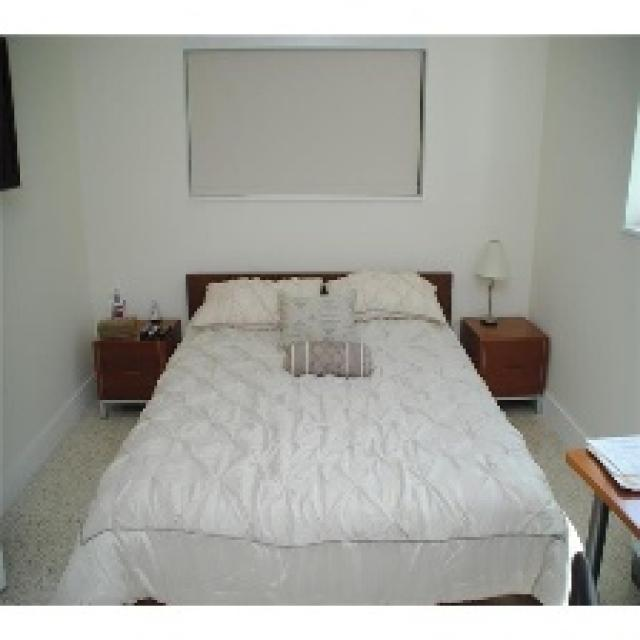Bed: (51, 268, 592, 606)
